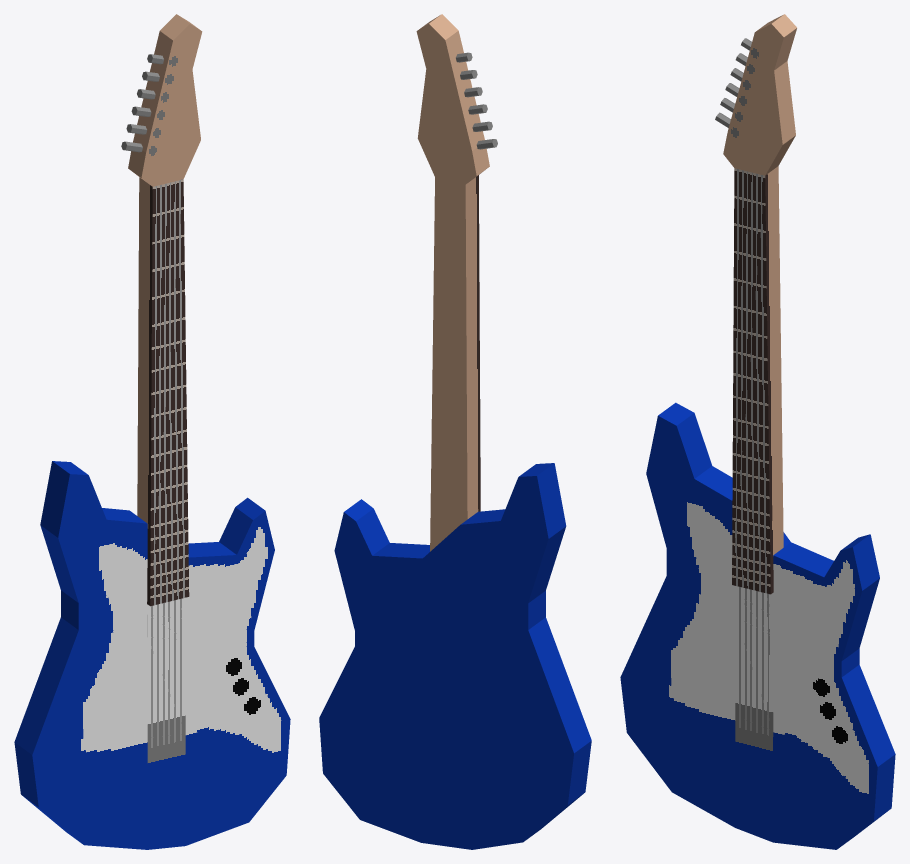
The model's file is CalihanGuitar.gltf.
The picture shows the model from 3 angles, left to right: view 1: azimuth 30°, elevation 25°; view 2: azimuth 150°, elevation 25°; view 3: azimuth 330°, elevation 25°; orthographic projection.
Visible parts, largest first — view 1: Body, Neck; view 2: Body, Neck; view 3: Body, Neck.
Boxes of the visible parts, x1,y1,x2,y2 form: Body: (14,461,290,849); Neck: (128,14,202,606); Body: (319,463,591,849); Neck: (416,14,489,551); Body: (620,402,895,849); Neck: (723,14,796,594).
Size of the model in its own units: 0.3125 by 0.953 by 0.0437.
2 materials, 2 textured.
